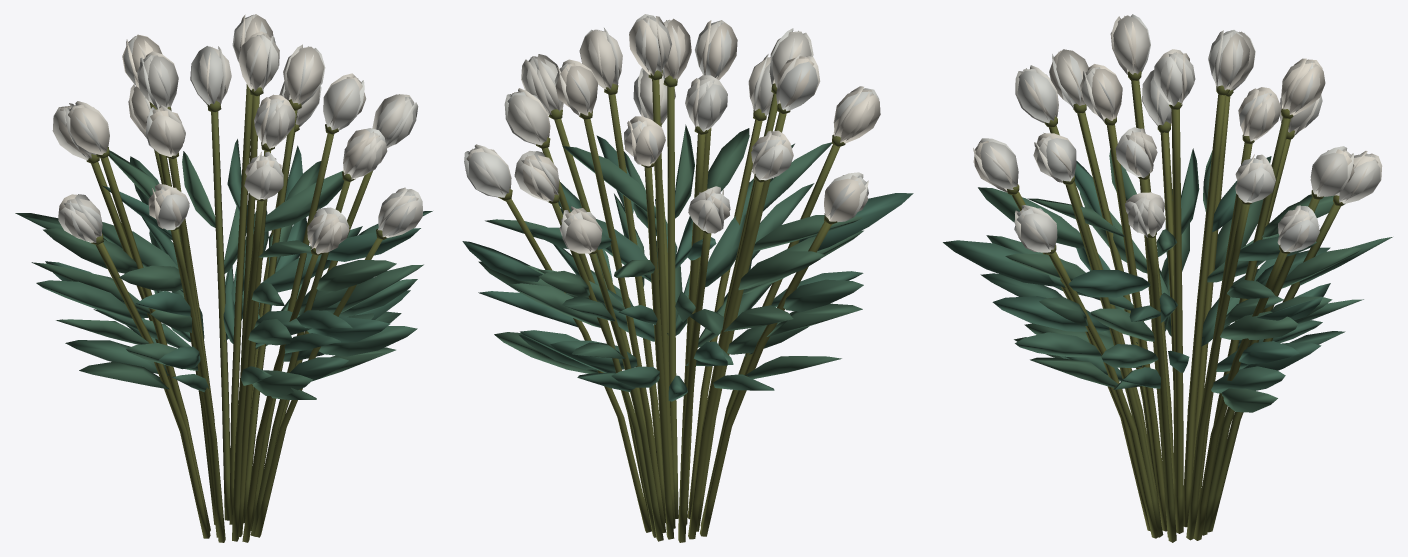
The model's file is bucket_tulips_white.glb.
3 renders of one model, left to right at view 1: azimuth 30°, elevation 25°; view 2: azimuth 150°, elevation 25°; view 3: azimuth 270°, elevation 25°, orthographic. The views are drawn at different scales.
Parts seen in each view (by area): view 1: Sammel Pflanze, Sammel Putz; view 2: Sammel Pflanze, Sammel Putz; view 3: Sammel Pflanze, Sammel Putz.
Part boxes in pixels (box(x1,y1,x2,y2)): Sammel Pflanze: box(15, 14, 432, 399); Sammel Putz: box(86, 84, 386, 542); Sammel Pflanze: box(462, 14, 913, 401); Sammel Putz: box(498, 70, 845, 542); Sammel Pflanze: box(943, 14, 1392, 412); Sammel Putz: box(1007, 71, 1344, 542).
Bounding box in the file's own units: 0.4341 × 0.5566 × 0.4615.
